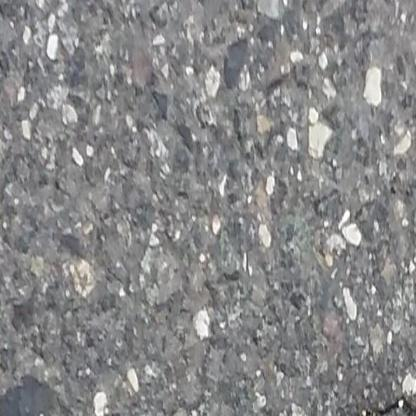Cracks: (330, 390, 416, 416)
